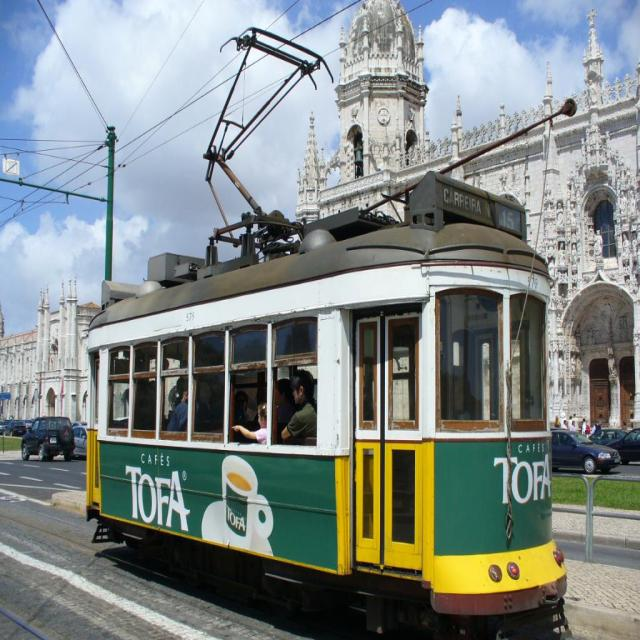car: (549, 427, 620, 476), (21, 417, 74, 461)
